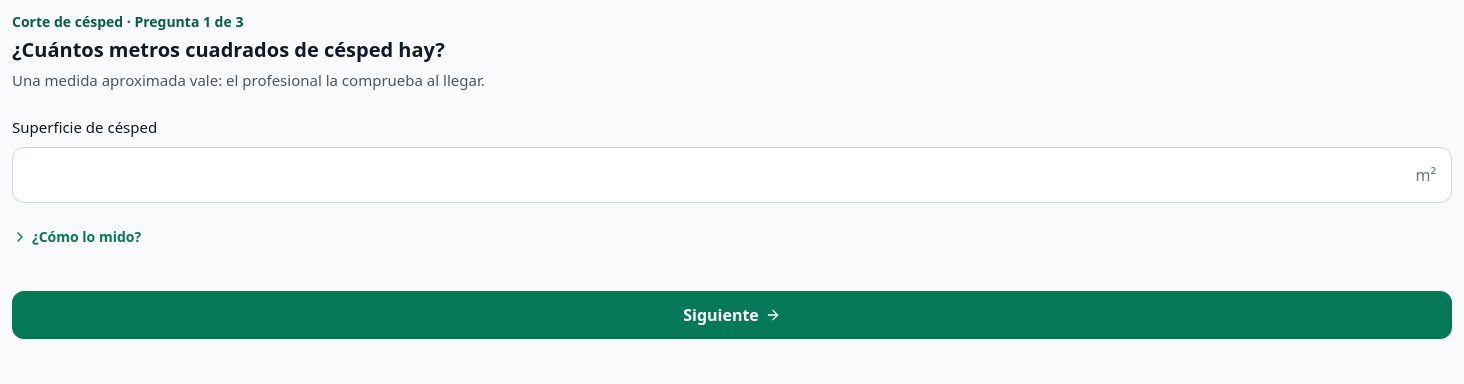
Test case: campo numérico (P-15, D-07, P-10) › lo que no es un número se marca al salir del campo, sin adivinar un valor
Type "80 metros" into the field labelled "Superficie de césped" at [732, 174], box [12,146,1452,202]
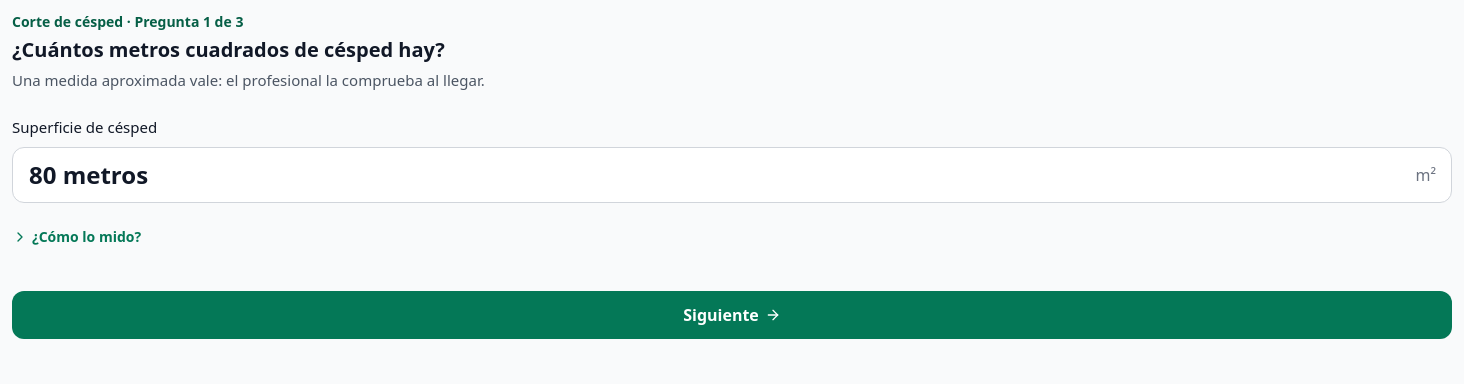
Expected: the text "Escribe solo el número" is not shown
Leave the field labelled "Superficie de césped", box [12,146,1452,202]
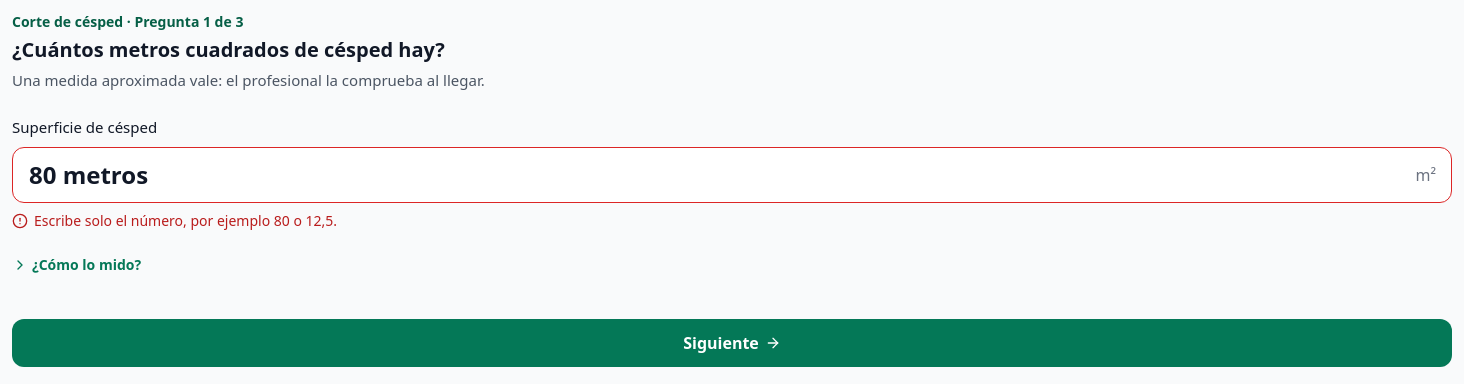
Now the text "Escribe solo el número, por ejemplo 80 o 12,5." is shown, box [34,210,337,230]
